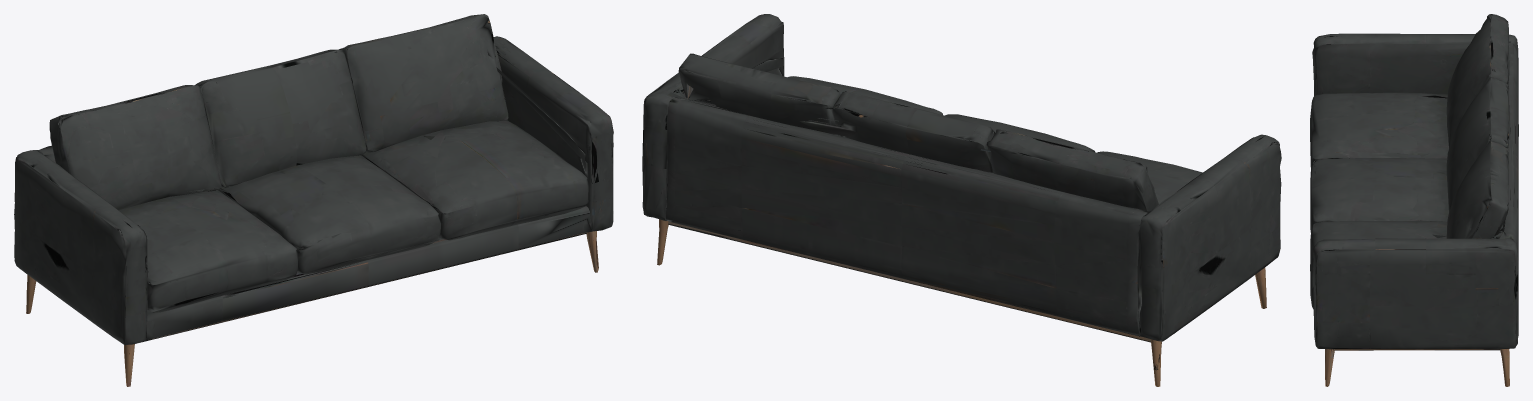
File: mobile.glb
3 views of the same model, side by side, from view 1: azimuth 30°, elevation 25°; view 2: azimuth 150°, elevation 25°; view 3: azimuth 270°, elevation 25° (orthographic). The views are drawn at different scales.
Visible parts, largest first — view 1: sofa; view 2: sofa; view 3: sofa.
Part boxes in pixels (<box>): sofa: <box>14,14,613,386</box>; sofa: <box>642,14,1281,386</box>; sofa: <box>1310,14,1518,386</box>.
Size of the model in its own units: 2.2 by 0.8394 by 0.8938.
1 material, 1 textured.
